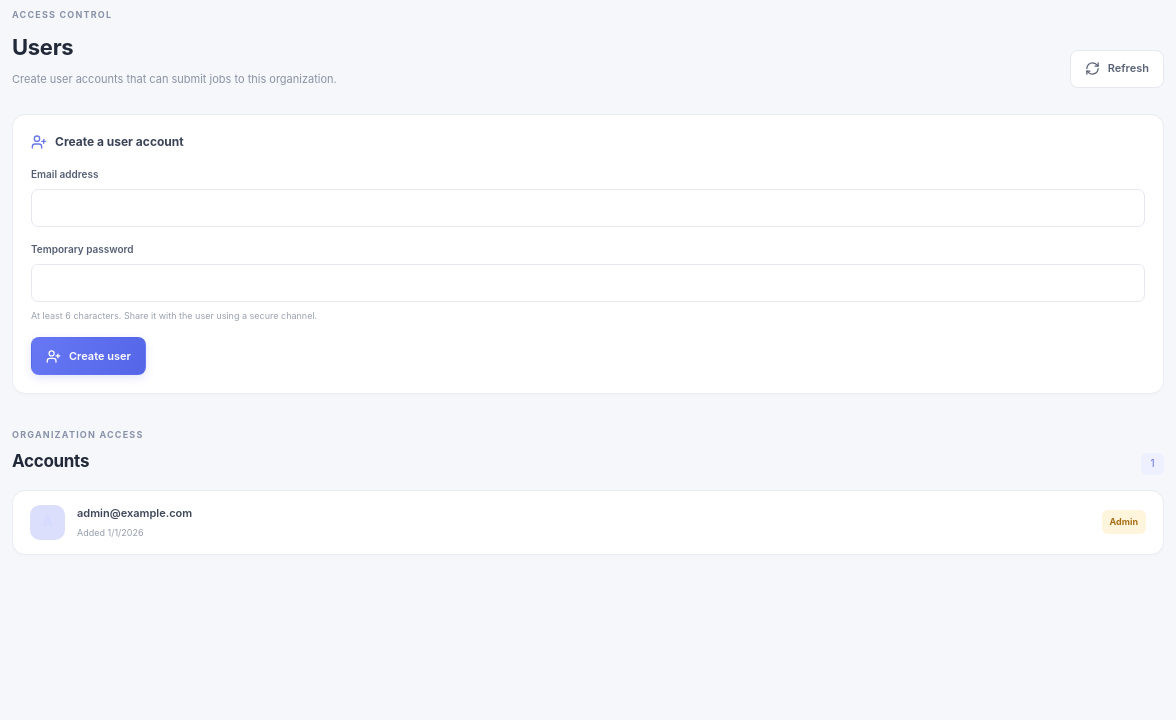
UsersPage › lists organization accounts and creates a member account
Expected: the text "admin@example.com" is shown, [77,506,192,520]
Type "member@example.com" into the field labelled "Email address" at (588, 208), box [31,188,1145,226]
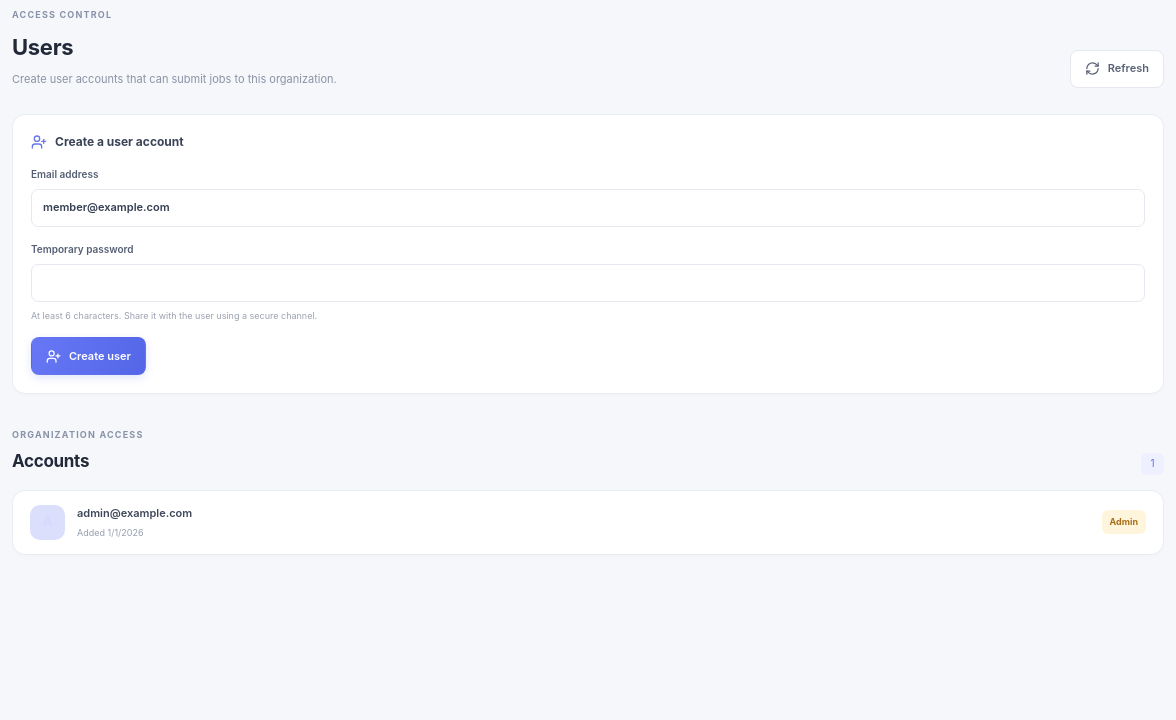
Type "secret-pass" into the password field labelled "Temporary password" at (588, 282), box [31,264,1145,302]
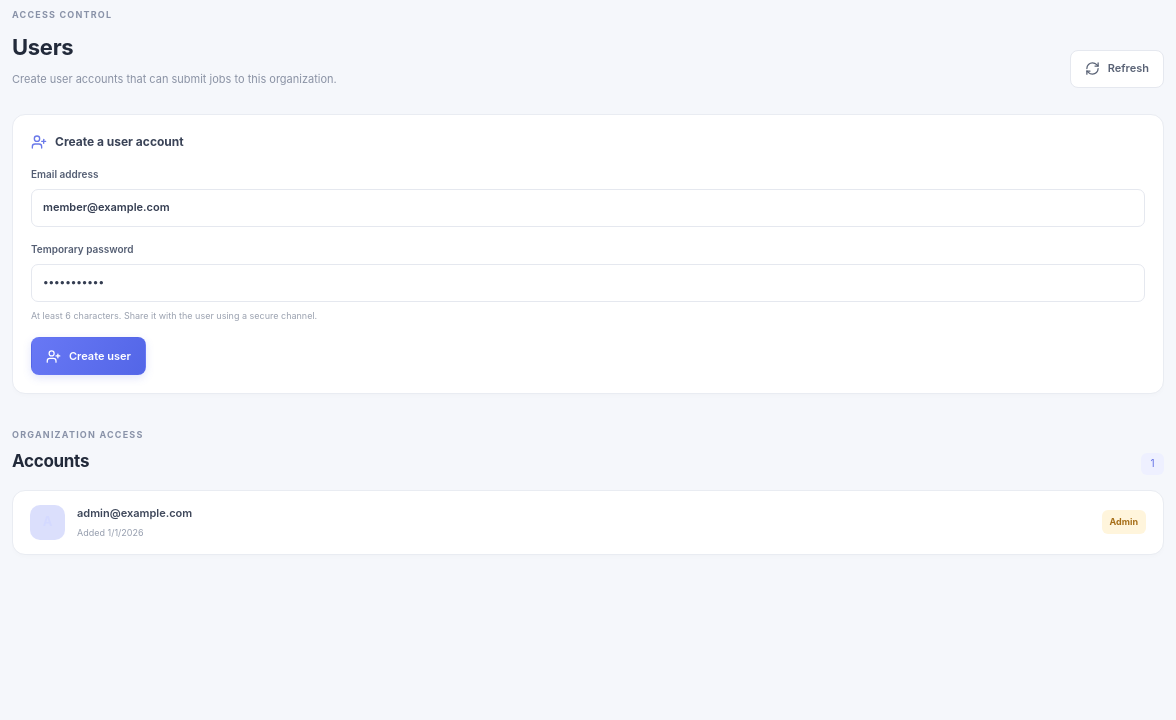
Click the button "Create user" at (88, 356), box [31,337,146,375]
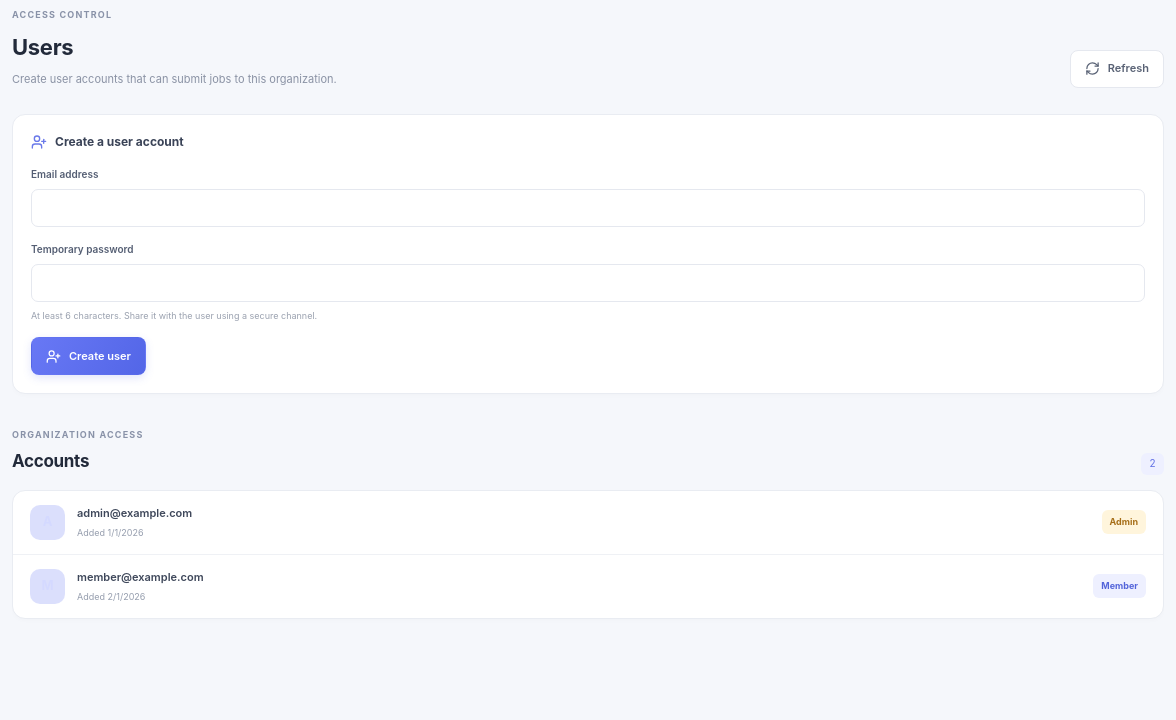
Expected: the text "member@example.com" is shown, [77,570,204,584]
